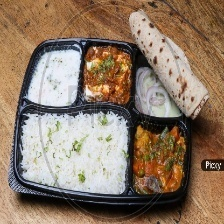rice: (15, 105, 132, 200)
